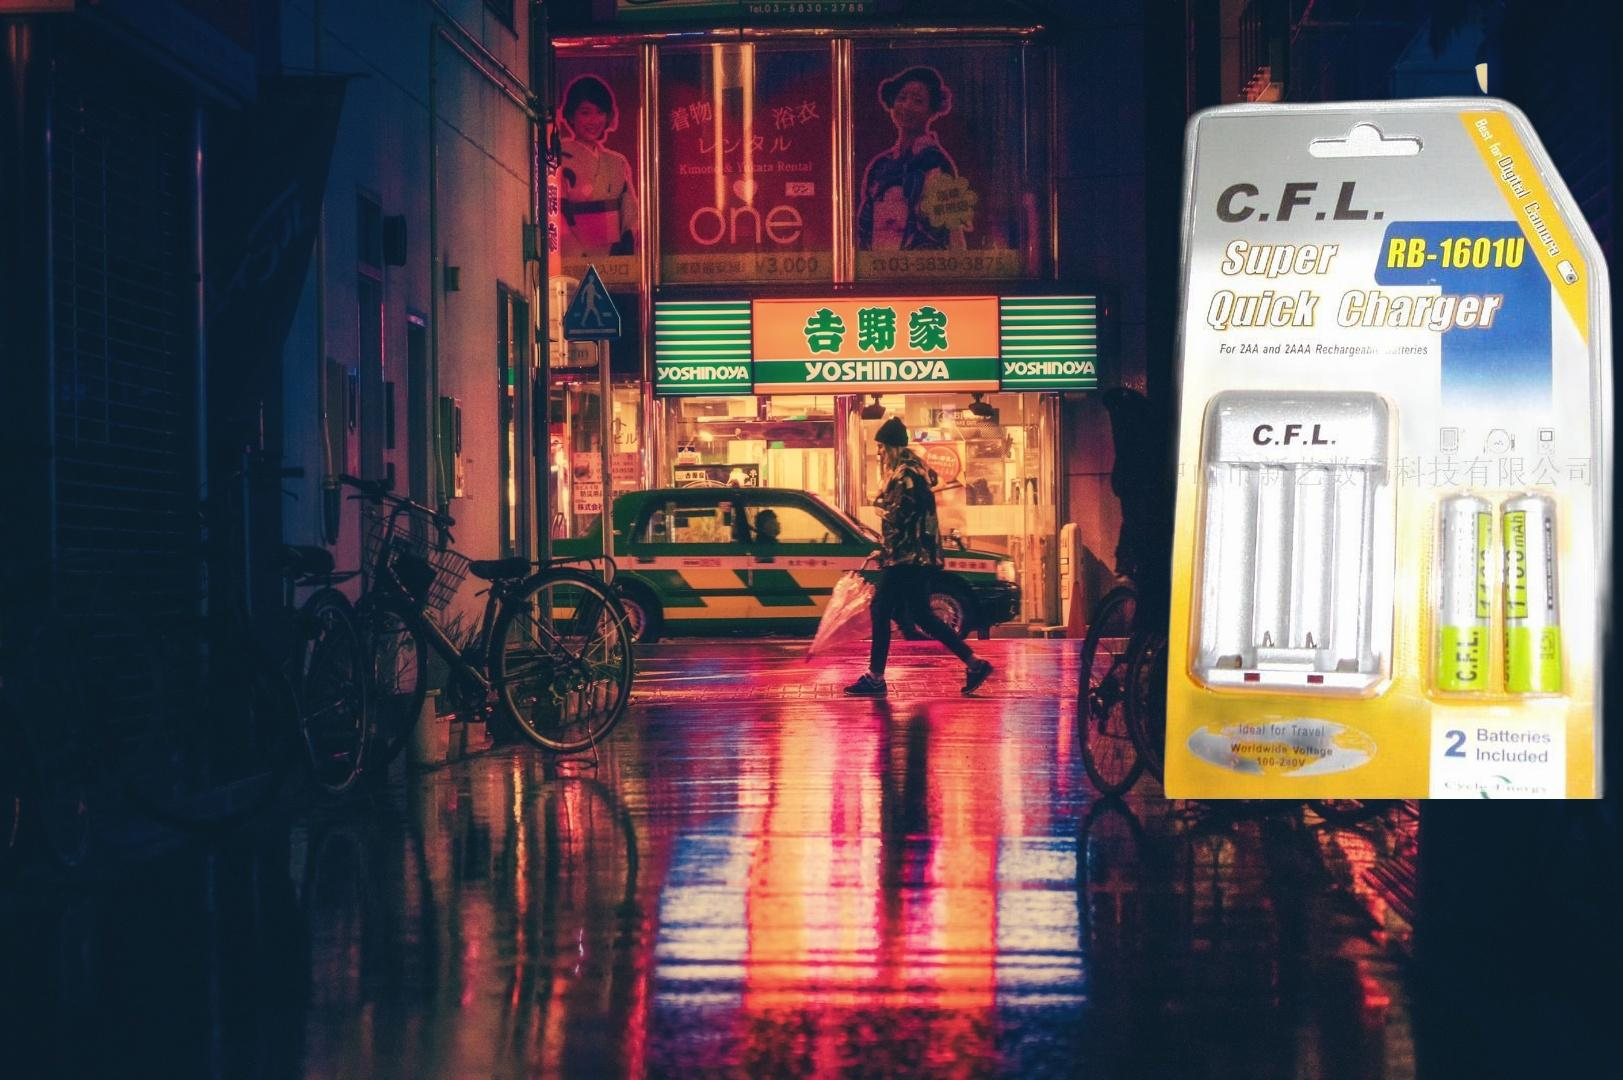battery: (1115, 89, 1623, 799)
